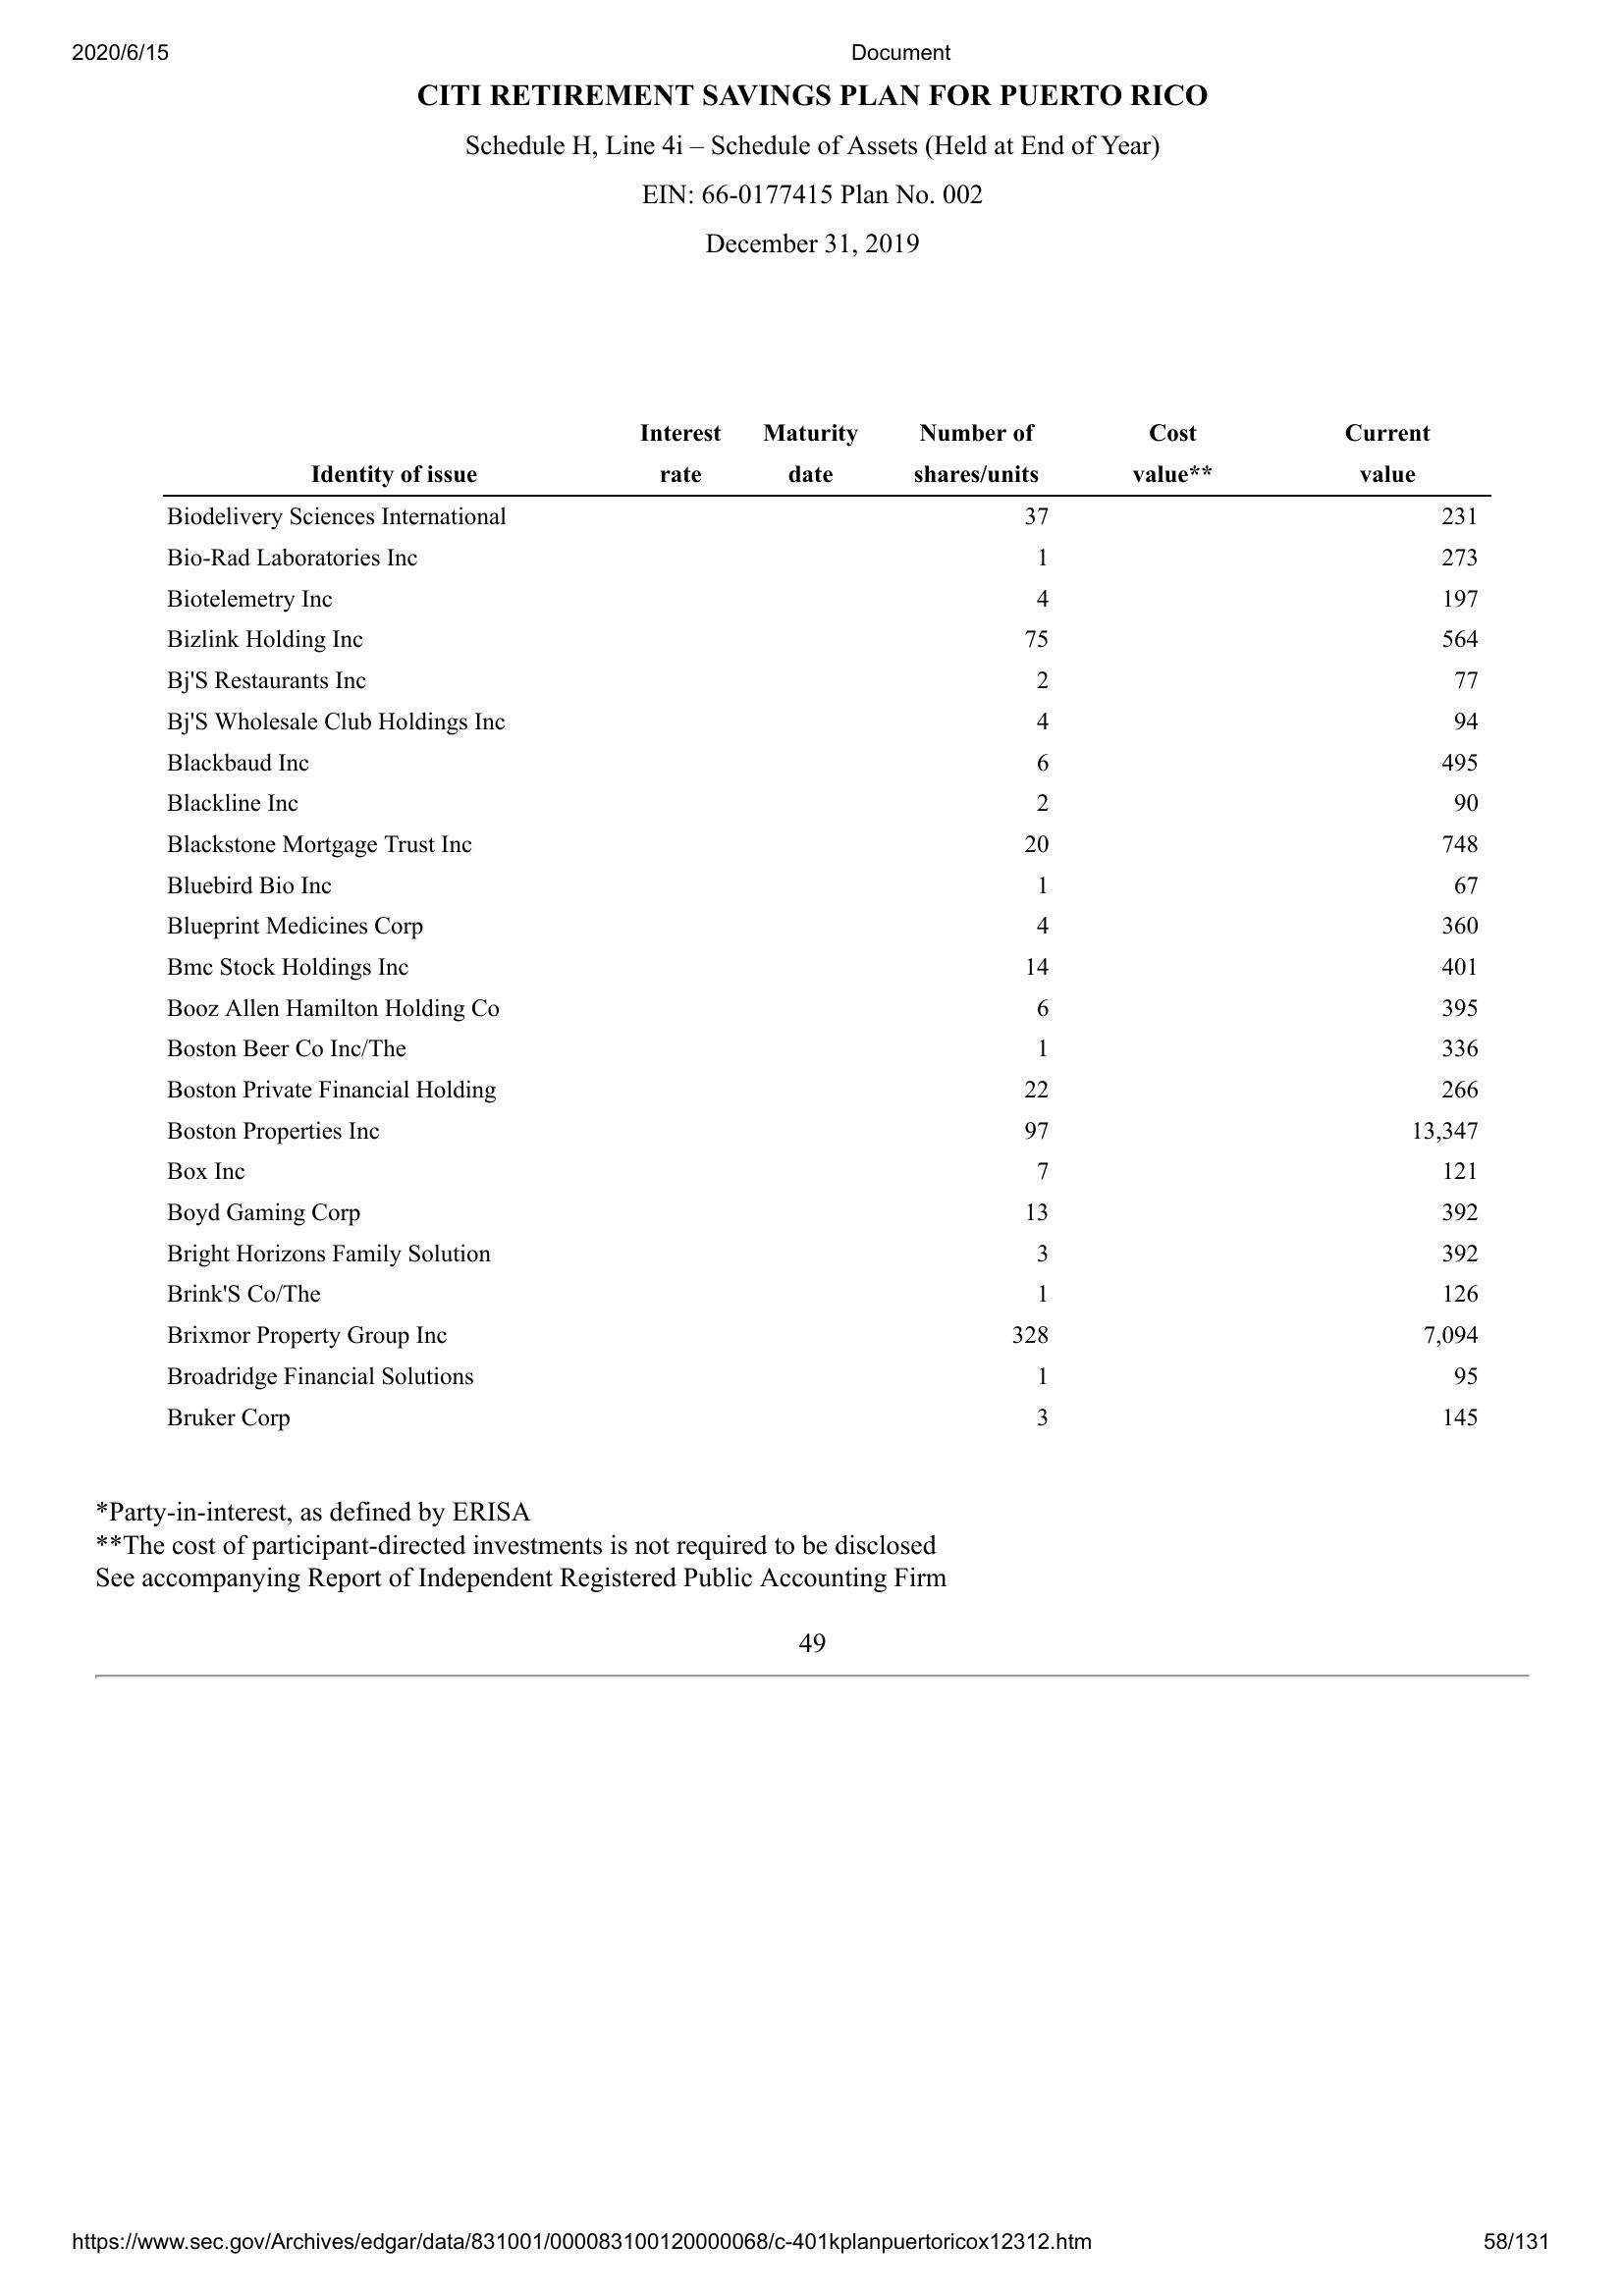table: (160, 416, 1491, 1434)
